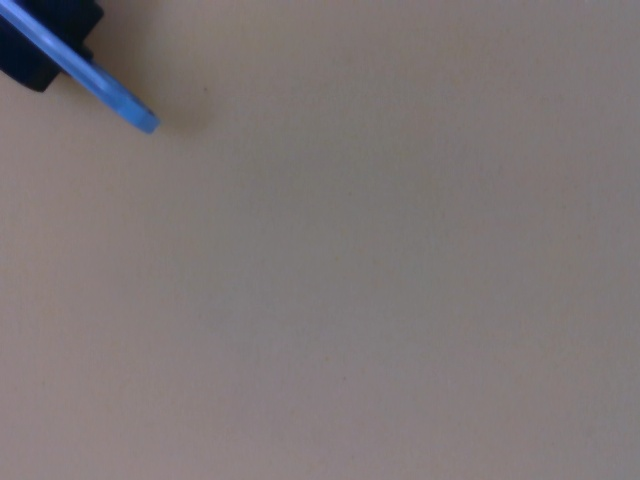part_1_good: (0, 0, 166, 140)
